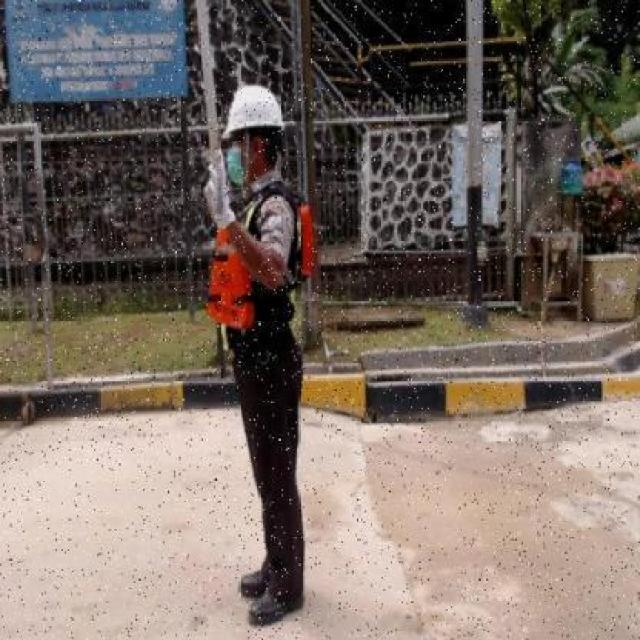Boots: (248, 588, 304, 628), (238, 558, 270, 597)
Gloves: (207, 147, 236, 230)
Helmet: (222, 83, 286, 137)
Mask: (225, 146, 247, 186)
Protective Glasses: (226, 131, 268, 147)
Vest: (207, 204, 318, 330)
